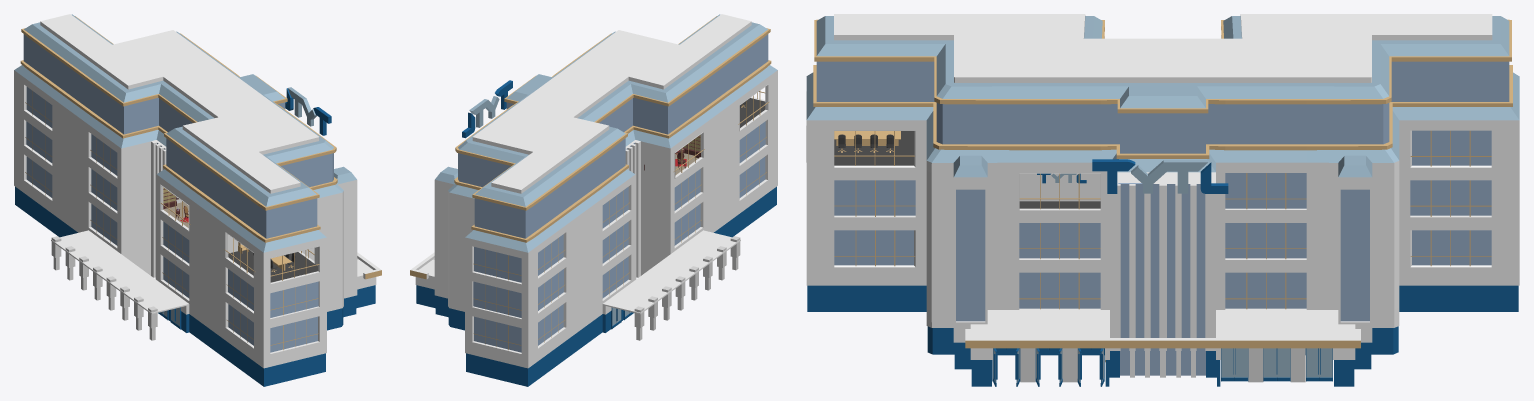
File: Oficina.fbx
The picture shows the model from 3 angles, left to right: view 1: azimuth 30°, elevation 25°; view 2: azimuth 150°, elevation 25°; view 3: azimuth 270°, elevation 25°; orthographic projection. The views are drawn at different scales.
Parts seen in each view (by area): view 1: Plane.042, Cube.021, Plane.004, Cube.027, Plane.006, Cube.023; view 2: Plane.042, Cube.021, Cube.027, Plane.006, Plane.004; view 3: Plane.042, Cube.027, Plane.005, Plane.006, Plane.004, Plane.036, Cube.019, Cube.020, Cube.002.
Part boxes in pixels (bbox=[...]): Plane.042: bbox=[14, 14, 381, 386]; Cube.021: bbox=[51, 236, 157, 340]; Plane.004: bbox=[163, 202, 317, 282]; Cube.027: bbox=[25, 90, 318, 350]; Plane.006: bbox=[285, 87, 331, 135]; Cube.023: bbox=[159, 191, 319, 280]; Plane.042: bbox=[410, 14, 777, 386]; Cube.021: bbox=[634, 236, 740, 340]; Cube.027: bbox=[473, 125, 766, 350]; Plane.006: bbox=[462, 80, 512, 138]; Plane.004: bbox=[675, 98, 765, 175]; Plane.042: bbox=[806, 14, 1519, 386]; Cube.027: bbox=[834, 130, 1491, 309]; Plane.005: bbox=[1221, 348, 1332, 381]; Plane.006: bbox=[1092, 159, 1228, 193]; Plane.004: bbox=[834, 131, 1100, 208]; Plane.036: bbox=[1019, 173, 1100, 210]; Cube.019: bbox=[1020, 348, 1077, 382]; Cube.020: bbox=[1248, 348, 1305, 382]; Cube.002: bbox=[834, 131, 900, 145].
Bounding box in the file's own units: 1823 × 1508 × 3664.
43 materials, 16 textured.
